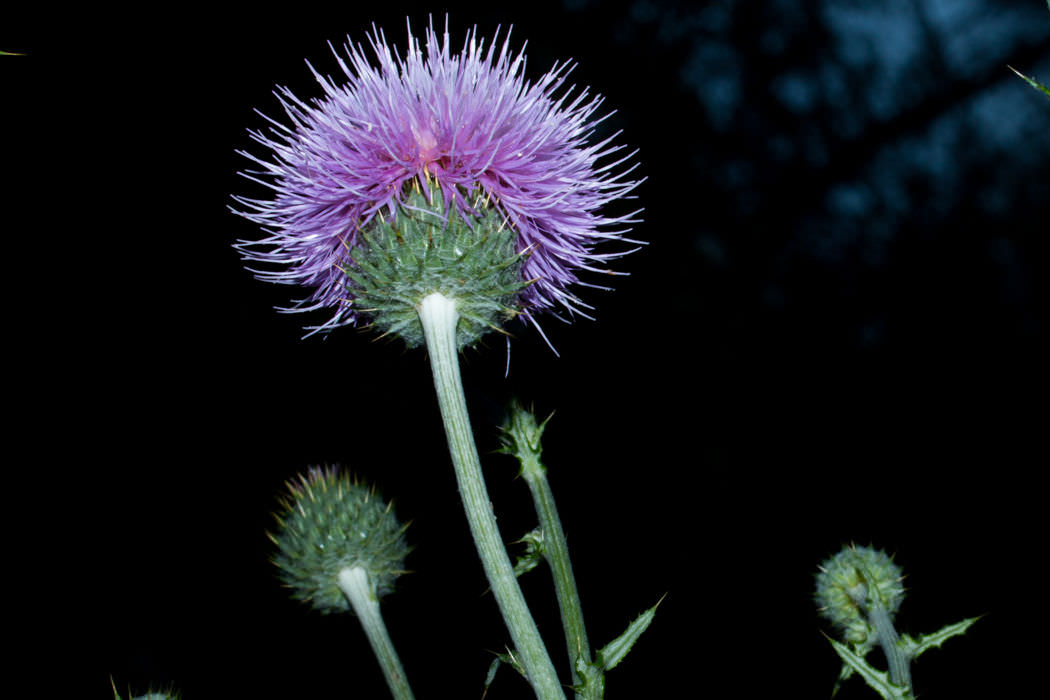thistle: (213, 60, 655, 351)
